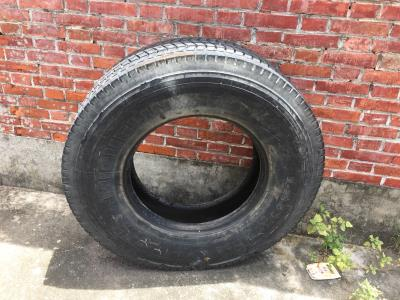tire: (57, 35, 331, 276)
